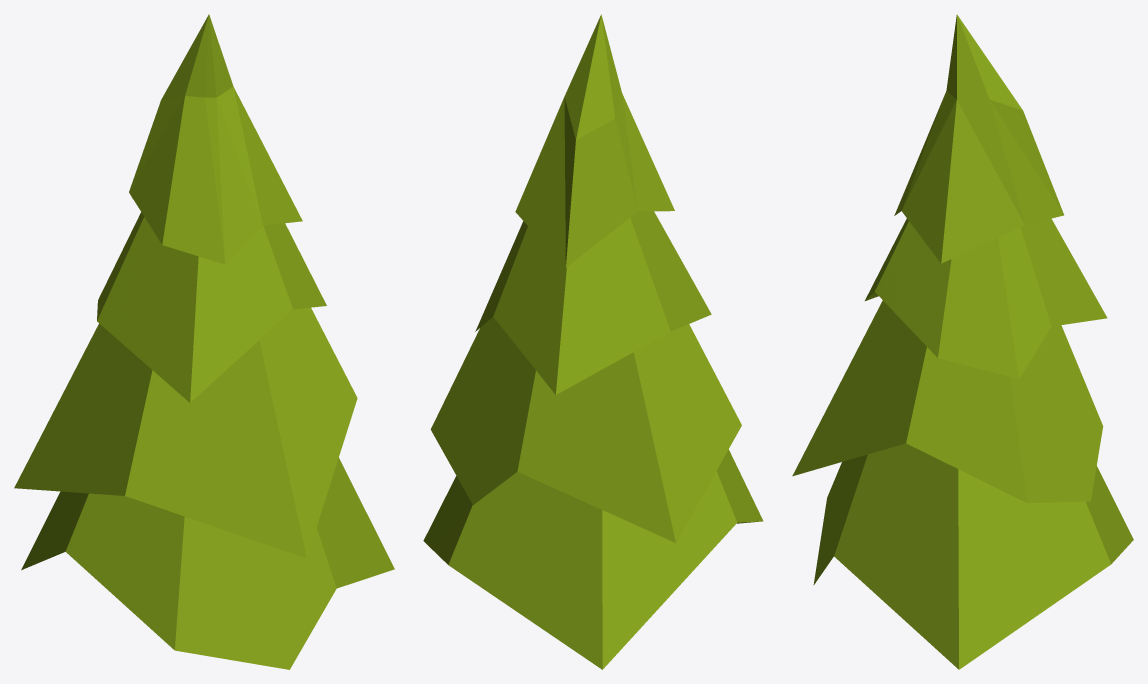
The model's file is Vegetation_Modular_Tree_Foliage_Alpine_04.fbx.
3 views of the same model, side by side, from view 1: azimuth 30°, elevation 25°; view 2: azimuth 150°, elevation 25°; view 3: azimuth 270°, elevation 25° (orthographic). The views are drawn at different scales.
Visible parts, largest first — view 1: Vegetation_Modular_Tree_Foliage_Alpine_04; view 2: Vegetation_Modular_Tree_Foliage_Alpine_04; view 3: Vegetation_Modular_Tree_Foliage_Alpine_04.
Boxes of the visible parts, x1,y1,x2,y2 form: Vegetation_Modular_Tree_Foliage_Alpine_04: [14, 14, 394, 669]; Vegetation_Modular_Tree_Foliage_Alpine_04: [423, 14, 763, 669]; Vegetation_Modular_Tree_Foliage_Alpine_04: [792, 14, 1133, 669].
Bounding box in the file's own units: 96.66 × 168 × 91.4.
